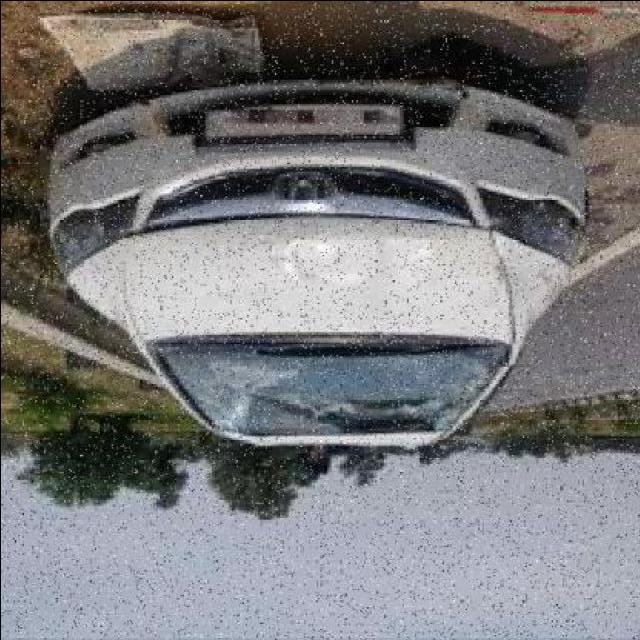Front-Windscreen-Damage: (115, 328, 528, 449)
bonnet-dent: (87, 206, 496, 337)
